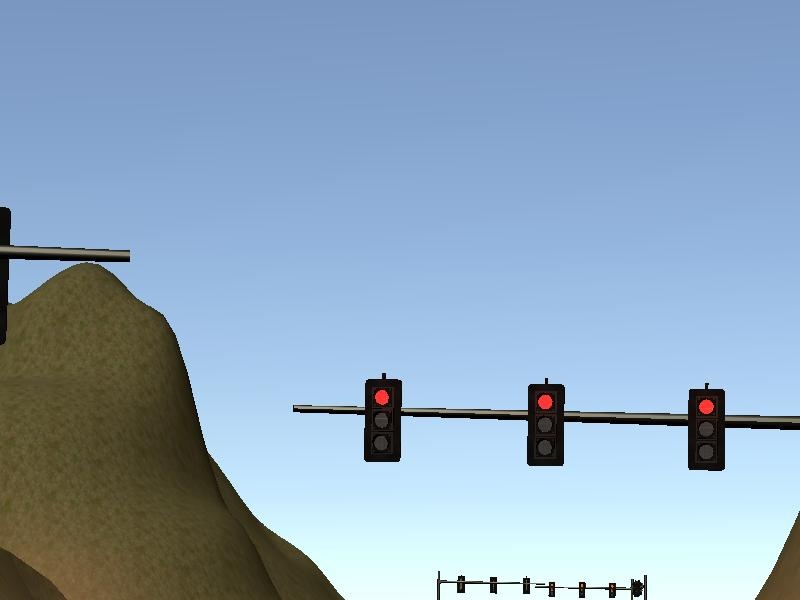red: (684, 384, 730, 475), (524, 378, 569, 471), (360, 375, 406, 465)
